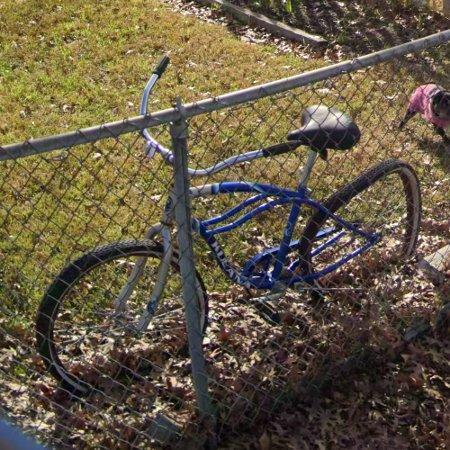bicycles: (189, 105, 423, 289), (37, 198, 180, 402)
